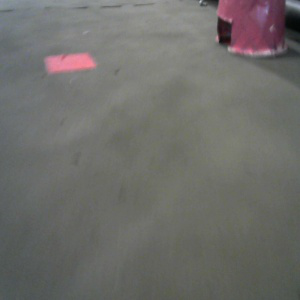Right: (215, 1, 289, 55)
